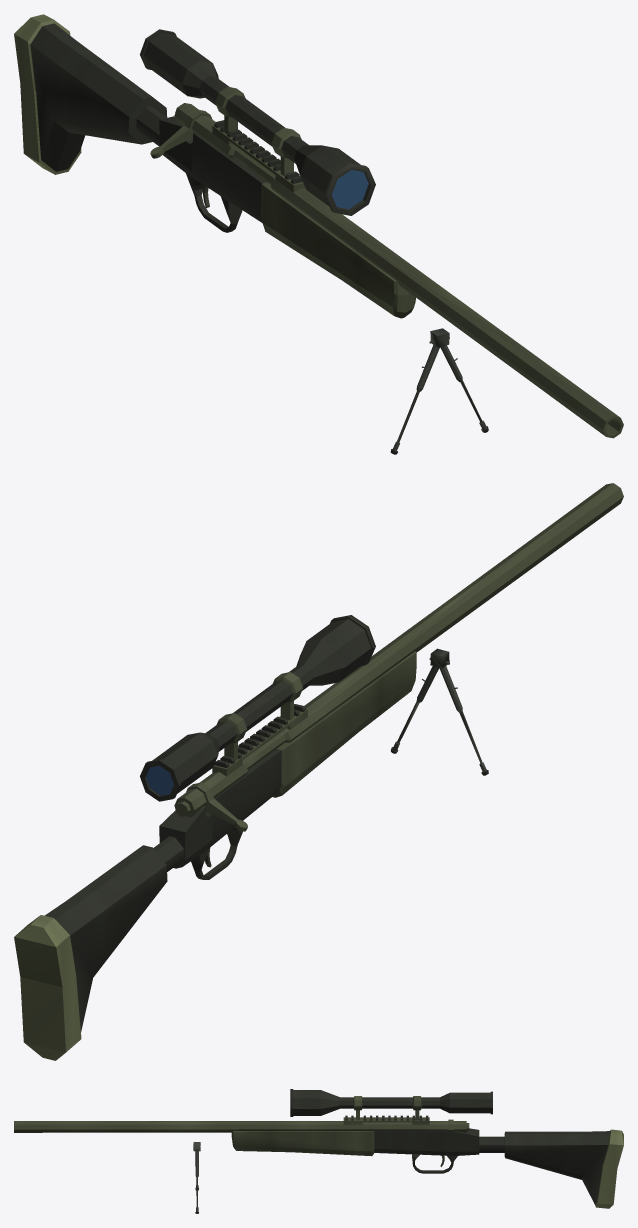
3 views of the same model, one above another, from view 1: azimuth 30°, elevation 25°; view 2: azimuth 150°, elevation 25°; view 3: azimuth 270°, elevation 25° (orthographic). The views are drawn at different scales.
Parts seen in each view (by area): view 1: sr1; view 2: sr1; view 3: sr1.
Boxes of the visible parts, box(x1,y1,x2,y2) form: sr1: box(14, 14, 623, 454); sr1: box(14, 483, 623, 1060); sr1: box(14, 1089, 623, 1213).
Size of the model in its own units: 0.1117 by 0.2447 by 1.15.
Materials: 1 (1 with a texture image).
